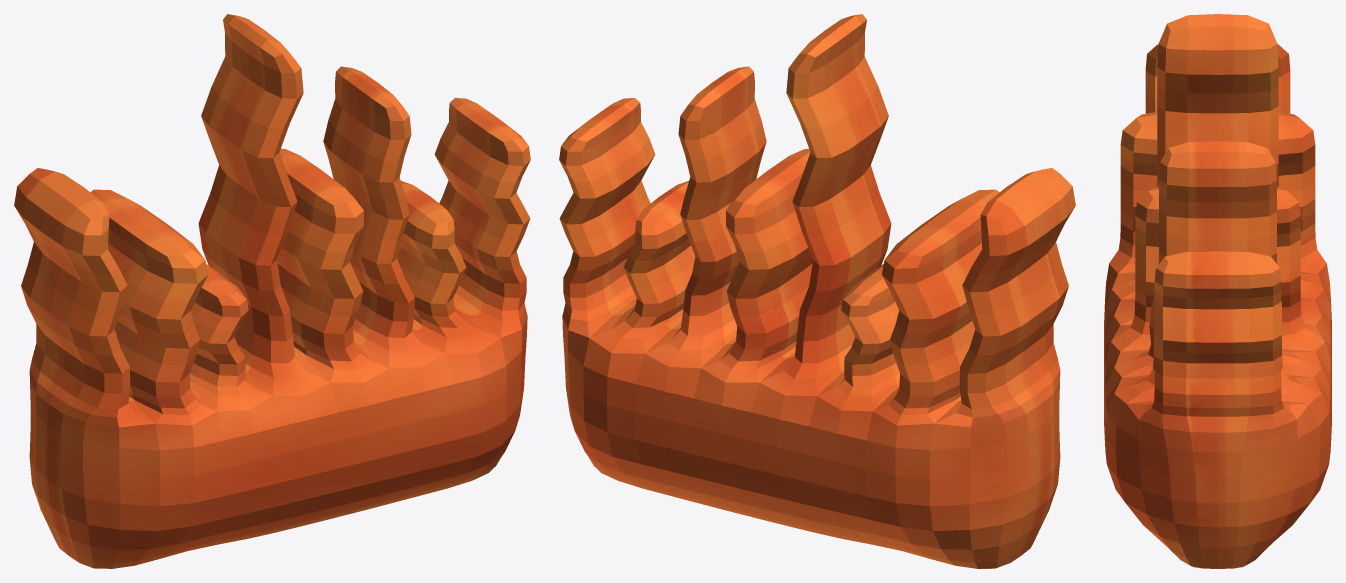
Rendered from hongoalgaglb.glb.
The picture shows the model from 3 angles, left to right: view 1: azimuth 30°, elevation 25°; view 2: azimuth 150°, elevation 25°; view 3: azimuth 270°, elevation 25°; orthographic projection. The views are drawn at different scales.
Parts seen in each view (by area): view 1: hongo alga; view 2: hongo alga; view 3: hongo alga.
Boxes of the visible parts, x1=… form: hongo alga: x1=14, y1=14, x2=530, y2=568; hongo alga: x1=559, y1=14, x2=1075, y2=568; hongo alga: x1=1104, y1=14, x2=1331, y2=568.
Size of what is drawn, in the model's own units: 3.13 by 3.13 by 1.43.
1 material, 1 textured.
